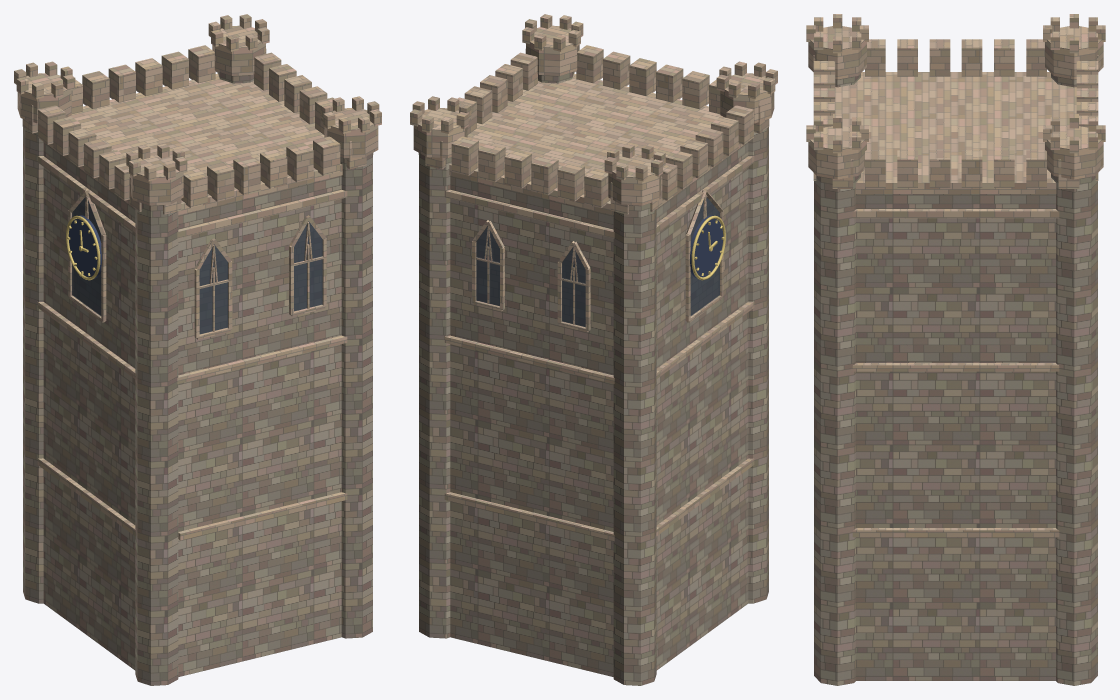
3 views of the same model, side by side, from view 1: azimuth 30°, elevation 25°; view 2: azimuth 150°, elevation 25°; view 3: azimuth 270°, elevation 25° (orthographic). The views are drawn at different scales.
Visible parts, largest first — view 1: West tower main shaft001, Tower corner turret shaft 0-001, Tower corner turret shaft 1-001, Tower parapet coping deck001, Tower corner turret shaft 0-002, Tower south belfry arch 1_dark_glass001, Tower south belfry arch 2_dark_glass001, Tower corner turret cap drum 0-001, Tower corner turret cap drum 1-002, Tower south string course 23.009, Tower south string course 7.007, Tower corner turret cap drum 1-001 (+27 smaller); view 2: West tower main shaft001, Tower corner turret shaft 0-002, Tower corner turret shaft 1-002, Tower parapet coping deck001, Tower corner turret shaft 0-001, Tower corner turret cap drum 0-002, Tower corner turret cap drum 1-001, Tower north string course 7.007, Tower north string course 23.009, Tower corner turret cap drum 1-002, Tower north string course 16.001, Tower north belfry arch 2_dark_glass001 (+27 smaller); view 3: West tower main shaft001, Tower corner turret shaft 1-001, Tower corner turret shaft 1-002, Tower parapet coping deck001, Tower corner turret cap drum 1-001, Tower corner turret cap drum 1-002, Tower east string course 7.007, Tower east string course 23.009, Tower corner turret cap drum 0-001, Tower corner turret cap drum 0-002, Tower east string course 16.001, Tower east crenel 004 (+11 smaller).
Part boxes in pixels (x1,y1,x2,y2): West tower main shaft001: (43, 142, 341, 676); Tower corner turret shaft 0-001: (135, 203, 178, 685); Tower corner turret shaft 1-001: (340, 153, 372, 638); Tower parapet coping deck001: (44, 73, 342, 214); Tower corner turret shaft 0-002: (23, 127, 43, 603); Tower south belfry arch 1_dark_glass001: (199, 244, 227, 334); Tower south belfry arch 2_dark_glass001: (294, 221, 322, 311); Tower corner turret cap drum 0-001: (130, 155, 183, 205); Tower corner turret cap drum 1-002: (212, 25, 265, 75); Tower south string course 23.009: (177, 189, 347, 238); Tower south string course 7.007: (178, 492, 347, 540); Tower corner turret cap drum 1-001: (324, 108, 378, 158); West tower main shaft001: (450, 142, 748, 676); Tower corner turret shaft 0-002: (613, 203, 656, 685); Tower corner turret shaft 1-002: (419, 153, 451, 638); Tower parapet coping deck001: (449, 73, 747, 214); Tower corner turret shaft 0-001: (748, 127, 768, 603); Tower corner turret cap drum 0-002: (608, 155, 661, 205); Tower corner turret cap drum 1-001: (526, 25, 579, 75); Tower north string course 7.007: (444, 492, 614, 541); Tower north string course 23.009: (444, 189, 614, 238); Tower corner turret cap drum 1-002: (413, 108, 467, 158); Tower north string course 16.001: (444, 335, 614, 383); Tower north belfry arch 2_dark_glass001: (476, 226, 499, 306); West tower main shaft001: (856, 194, 1055, 680); Tower corner turret shaft 1-001: (814, 173, 860, 685); Tower corner turret shaft 1-002: (1051, 173, 1097, 685); Tower parapet coping deck001: (835, 72, 1076, 193); Tower corner turret cap drum 1-001: (808, 126, 866, 179); Tower corner turret cap drum 1-002: (1045, 126, 1103, 179); Tower east string course 7.007: (852, 528, 1059, 537); Tower east string course 23.009: (852, 209, 1059, 218); Tower corner turret cap drum 0-001: (808, 26, 866, 79); Tower corner turret cap drum 0-002: (1045, 26, 1103, 79); Tower east string course 16.001: (852, 363, 1059, 371); Tower east crenel 004: (929, 150, 950, 188).
Bounding box in the file's own units: 13.79 × 27.88 × 13.79.
5 materials, 2 textured.
